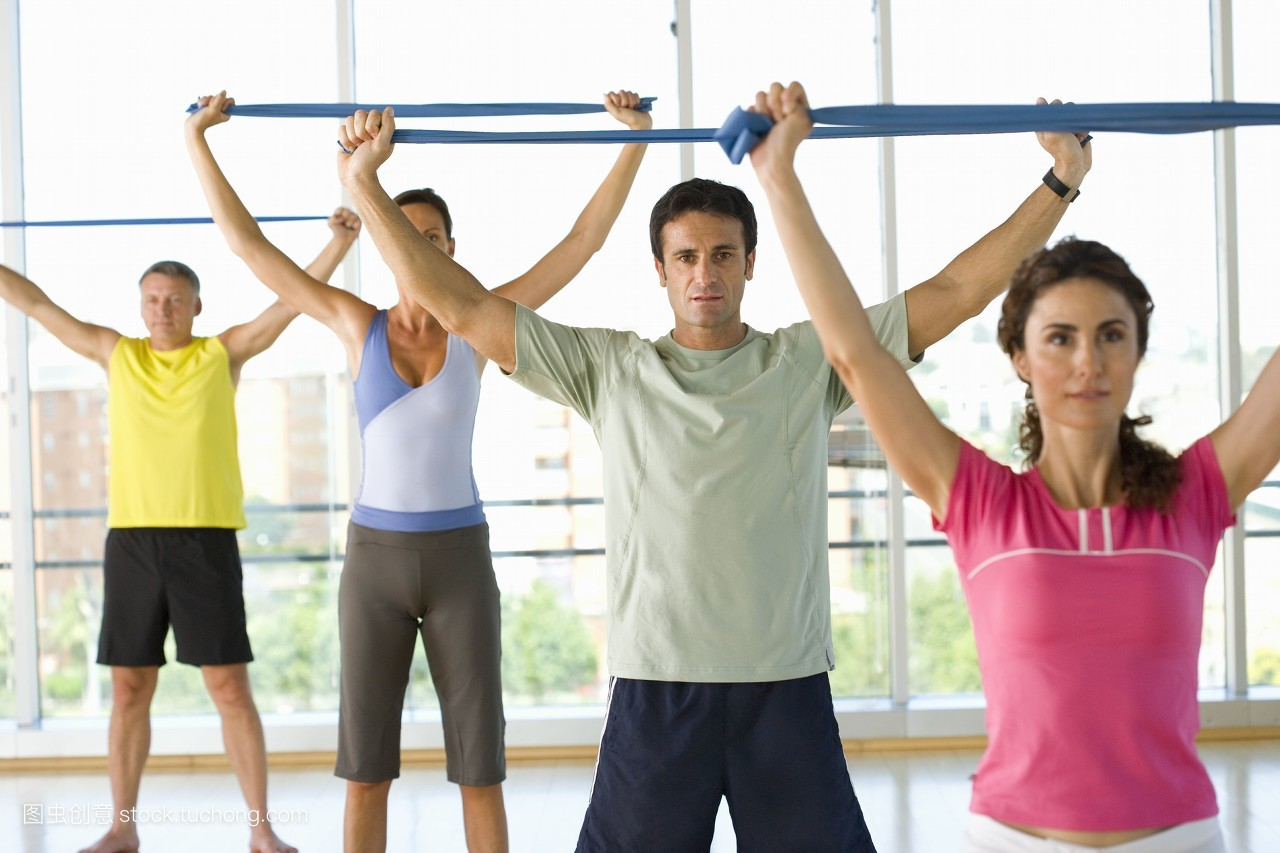handsup: (334, 68, 1097, 853), (719, 1, 1267, 847), (181, 80, 666, 847), (7, 183, 363, 851)
